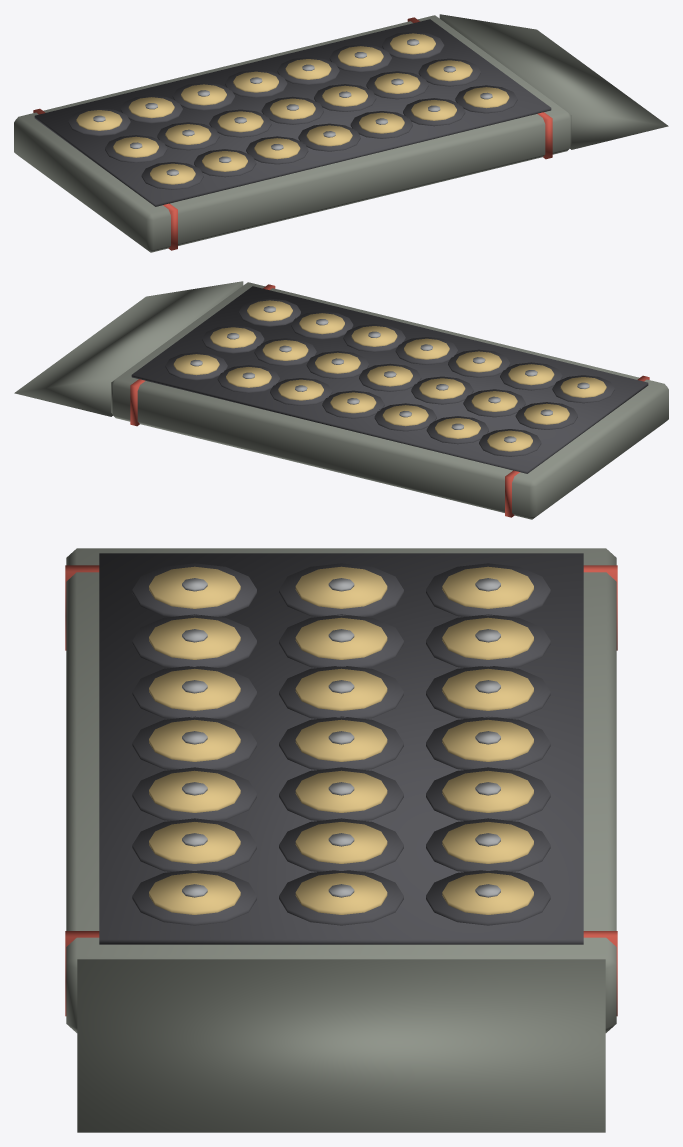
File: flares_1.glb
3 renders of one model, top to bottom at view 1: azimuth 30°, elevation 25°; view 2: azimuth 150°, elevation 25°; view 3: azimuth 270°, elevation 25°, orthographic. The views are drawn at different scales.
Parts seen in each view (by area): view 1: flares_1; view 2: flares_1; view 3: flares_1.
Boxes of the visible parts, box(x1,y1,x2,y2) form: flares_1: box(14, 14, 668, 252); flares_1: box(14, 281, 668, 519); flares_1: box(65, 548, 617, 1132).
Size of the model in its own units: 0.6144 by 0.0526 by 0.2811.
